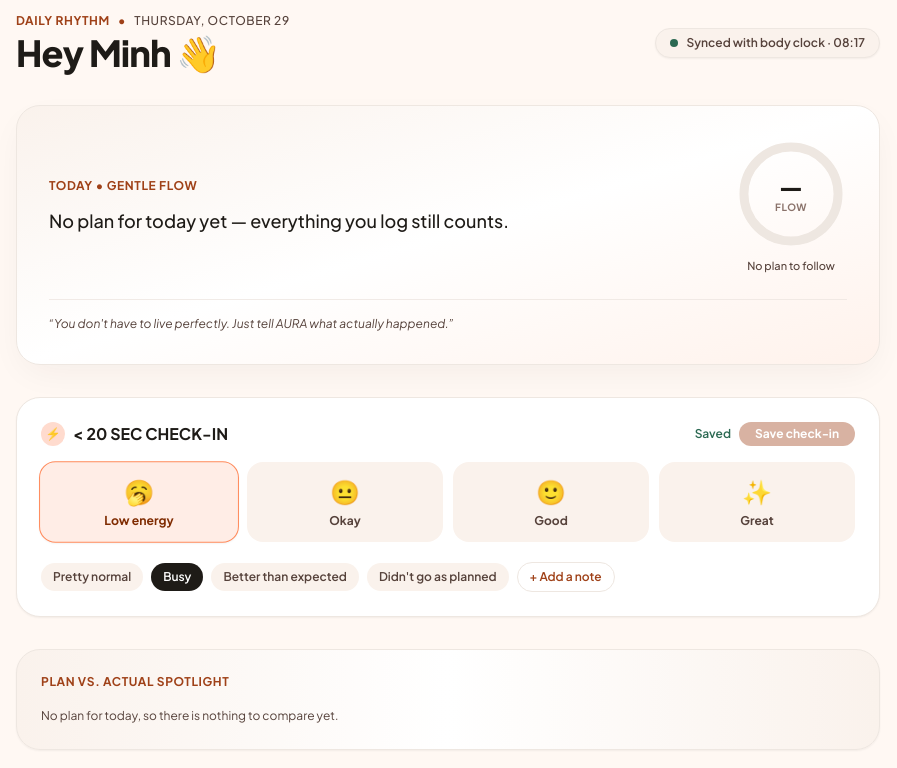
Test case: Check-in card › shows today's saved check-in as saved, so a reload cannot erase its note
The width and height of the screenshot is (897, 768).
Expected: the message reads "Saved", x1=695 y1=426 x2=731 y2=440
Click the button "+ Add a note".
click(566, 576)  # box x1=517 y1=562 x2=614 y2=592
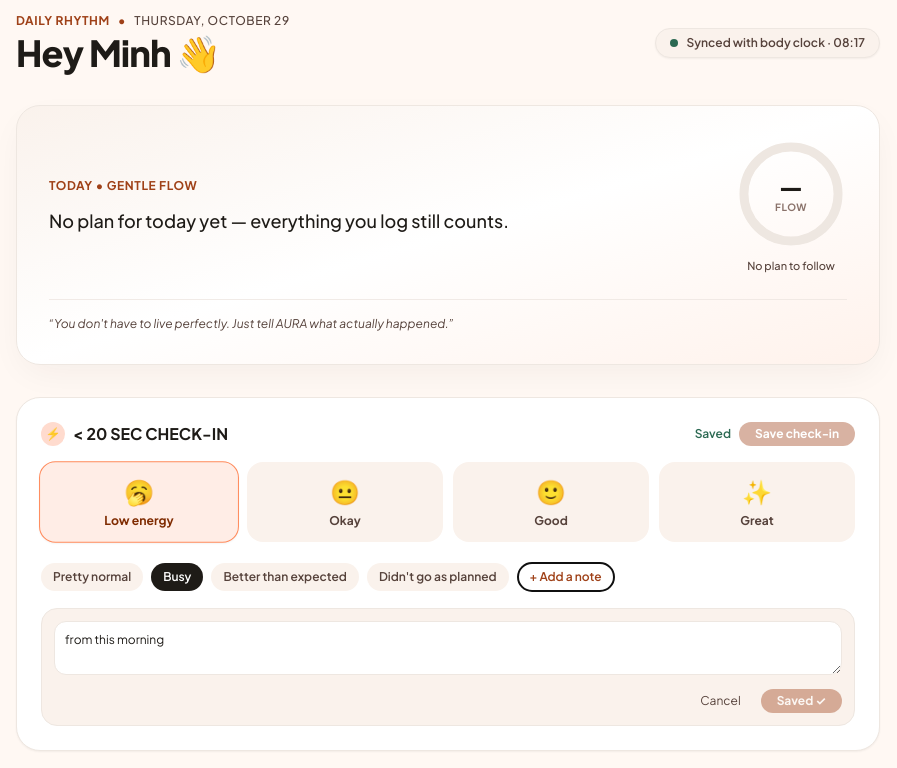
Expected: the text box with placeholder "How are you feeling" holds "from this morning", x1=54 y1=620 x2=842 y2=674
// Changing only the mood still sends the note back, rather than clearing it.
Click the button "😐 Okay".
click(345, 502)  # box x1=247 y1=462 x2=443 y2=542
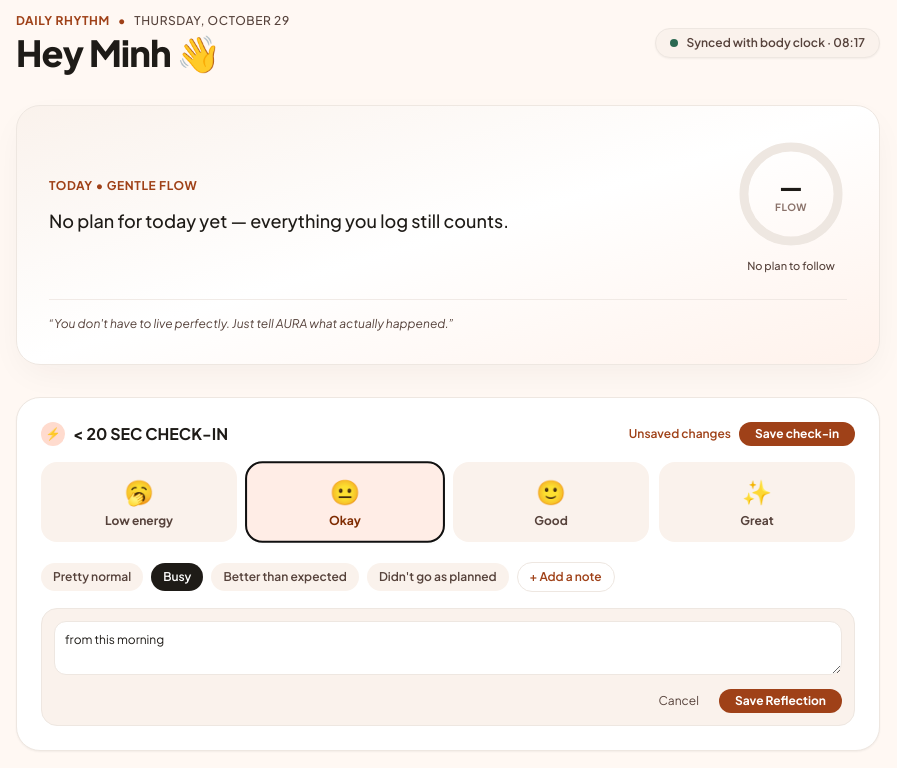
Expected: the message reads "Unsaved changes", x1=629 y1=426 x2=731 y2=440
Click the button "Save check-in".
click(797, 434)  # box x1=739 y1=422 x2=855 y2=446
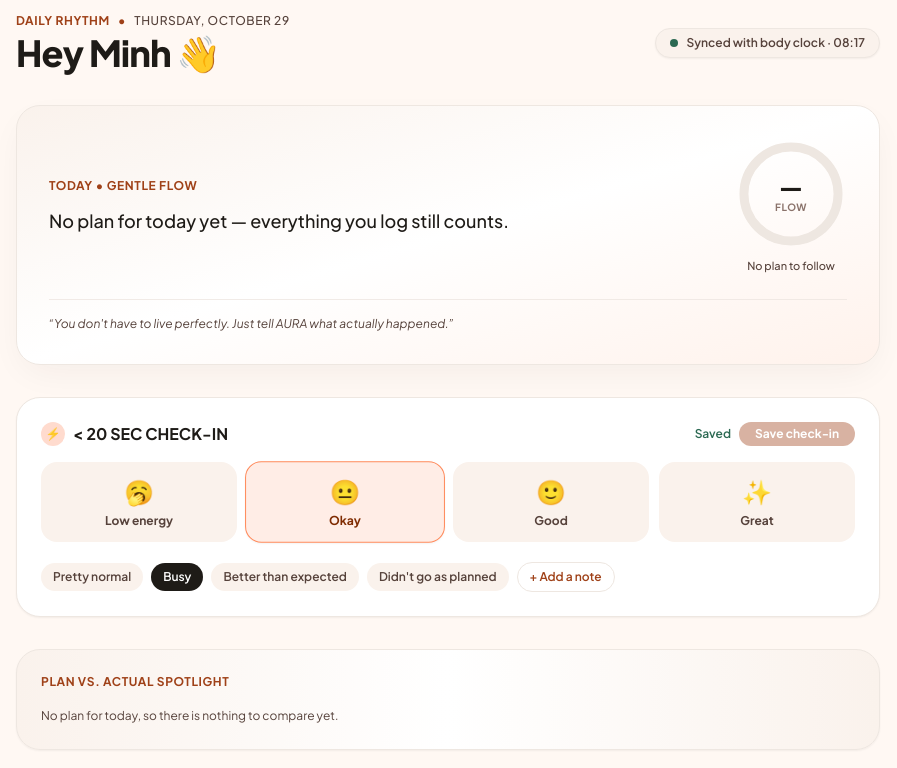
Expected: the message reads "Saved", x1=695 y1=426 x2=731 y2=440
